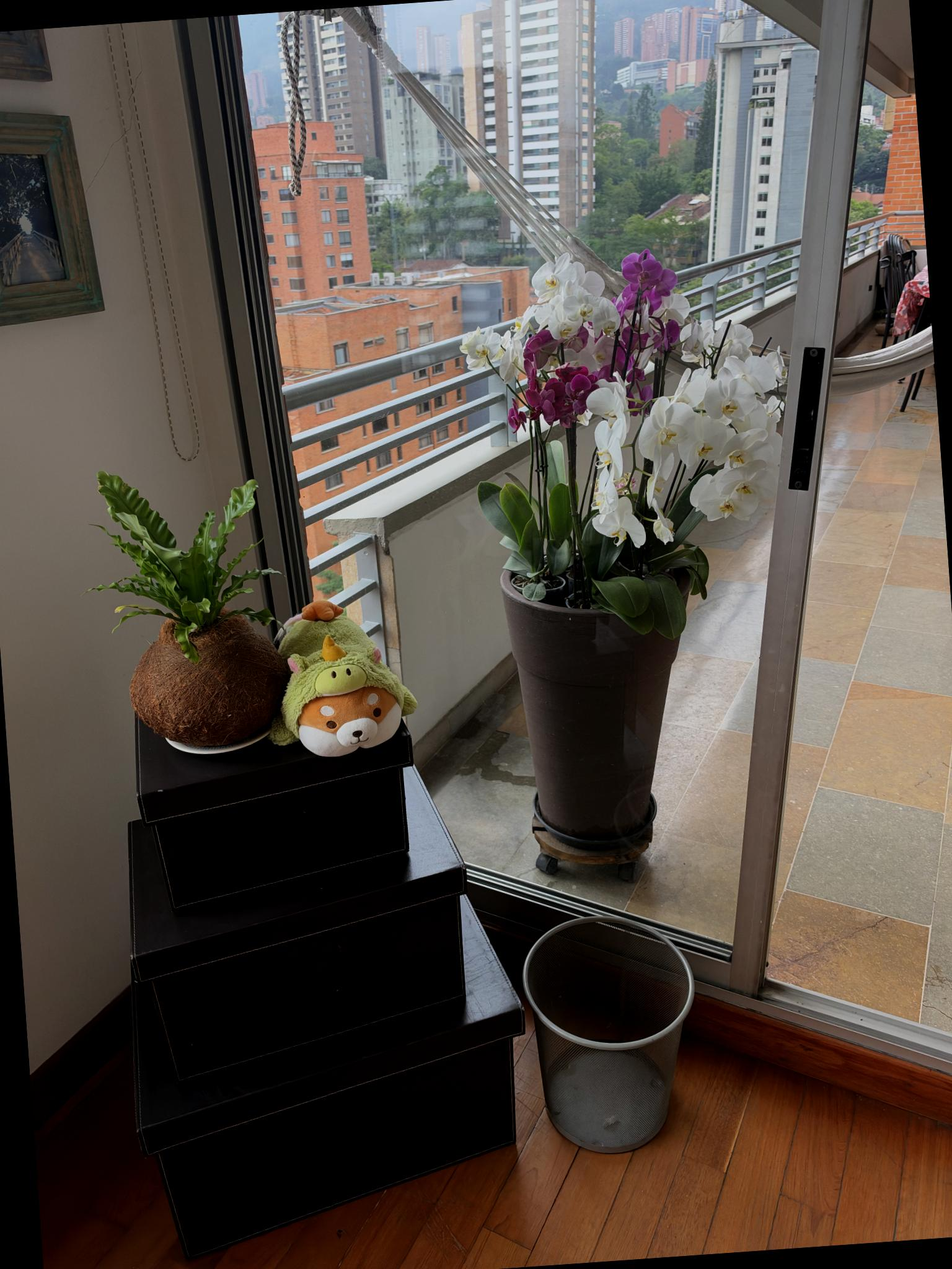peluche_martin: (259, 593, 422, 762)
